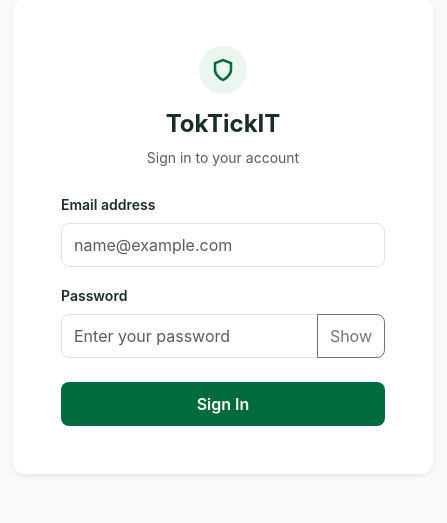
Scenario: Login Component (UI-01) › displays error banner when authentication fails
The width and height of the screenshot is (447, 523).
Type "wrong@example.com" into the field labelled "Email address" at (223,245), box [61,223,385,267]
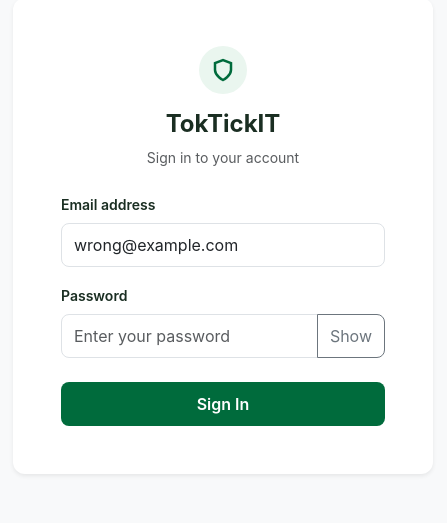
Type "wrongpassword" into the password field with placeholder "Enter your password" at (189,336), box [61,314,318,358]
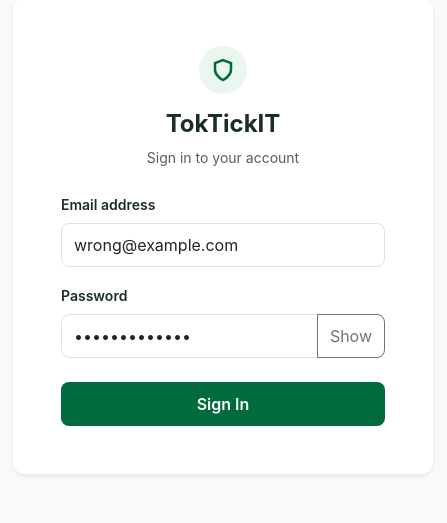
Click the button "Sign In" at (223,404), box [61,382,385,426]
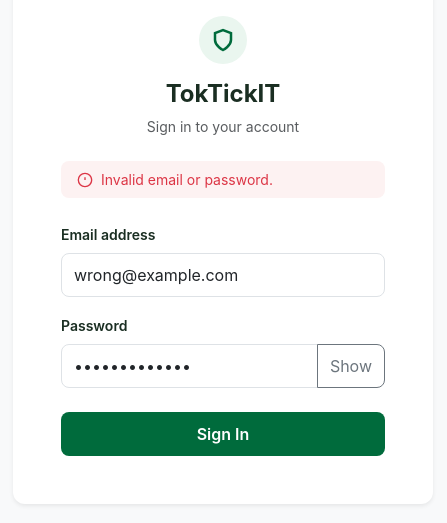
expect the message shows "Invalid email or password": met, box [101,171,273,188]
